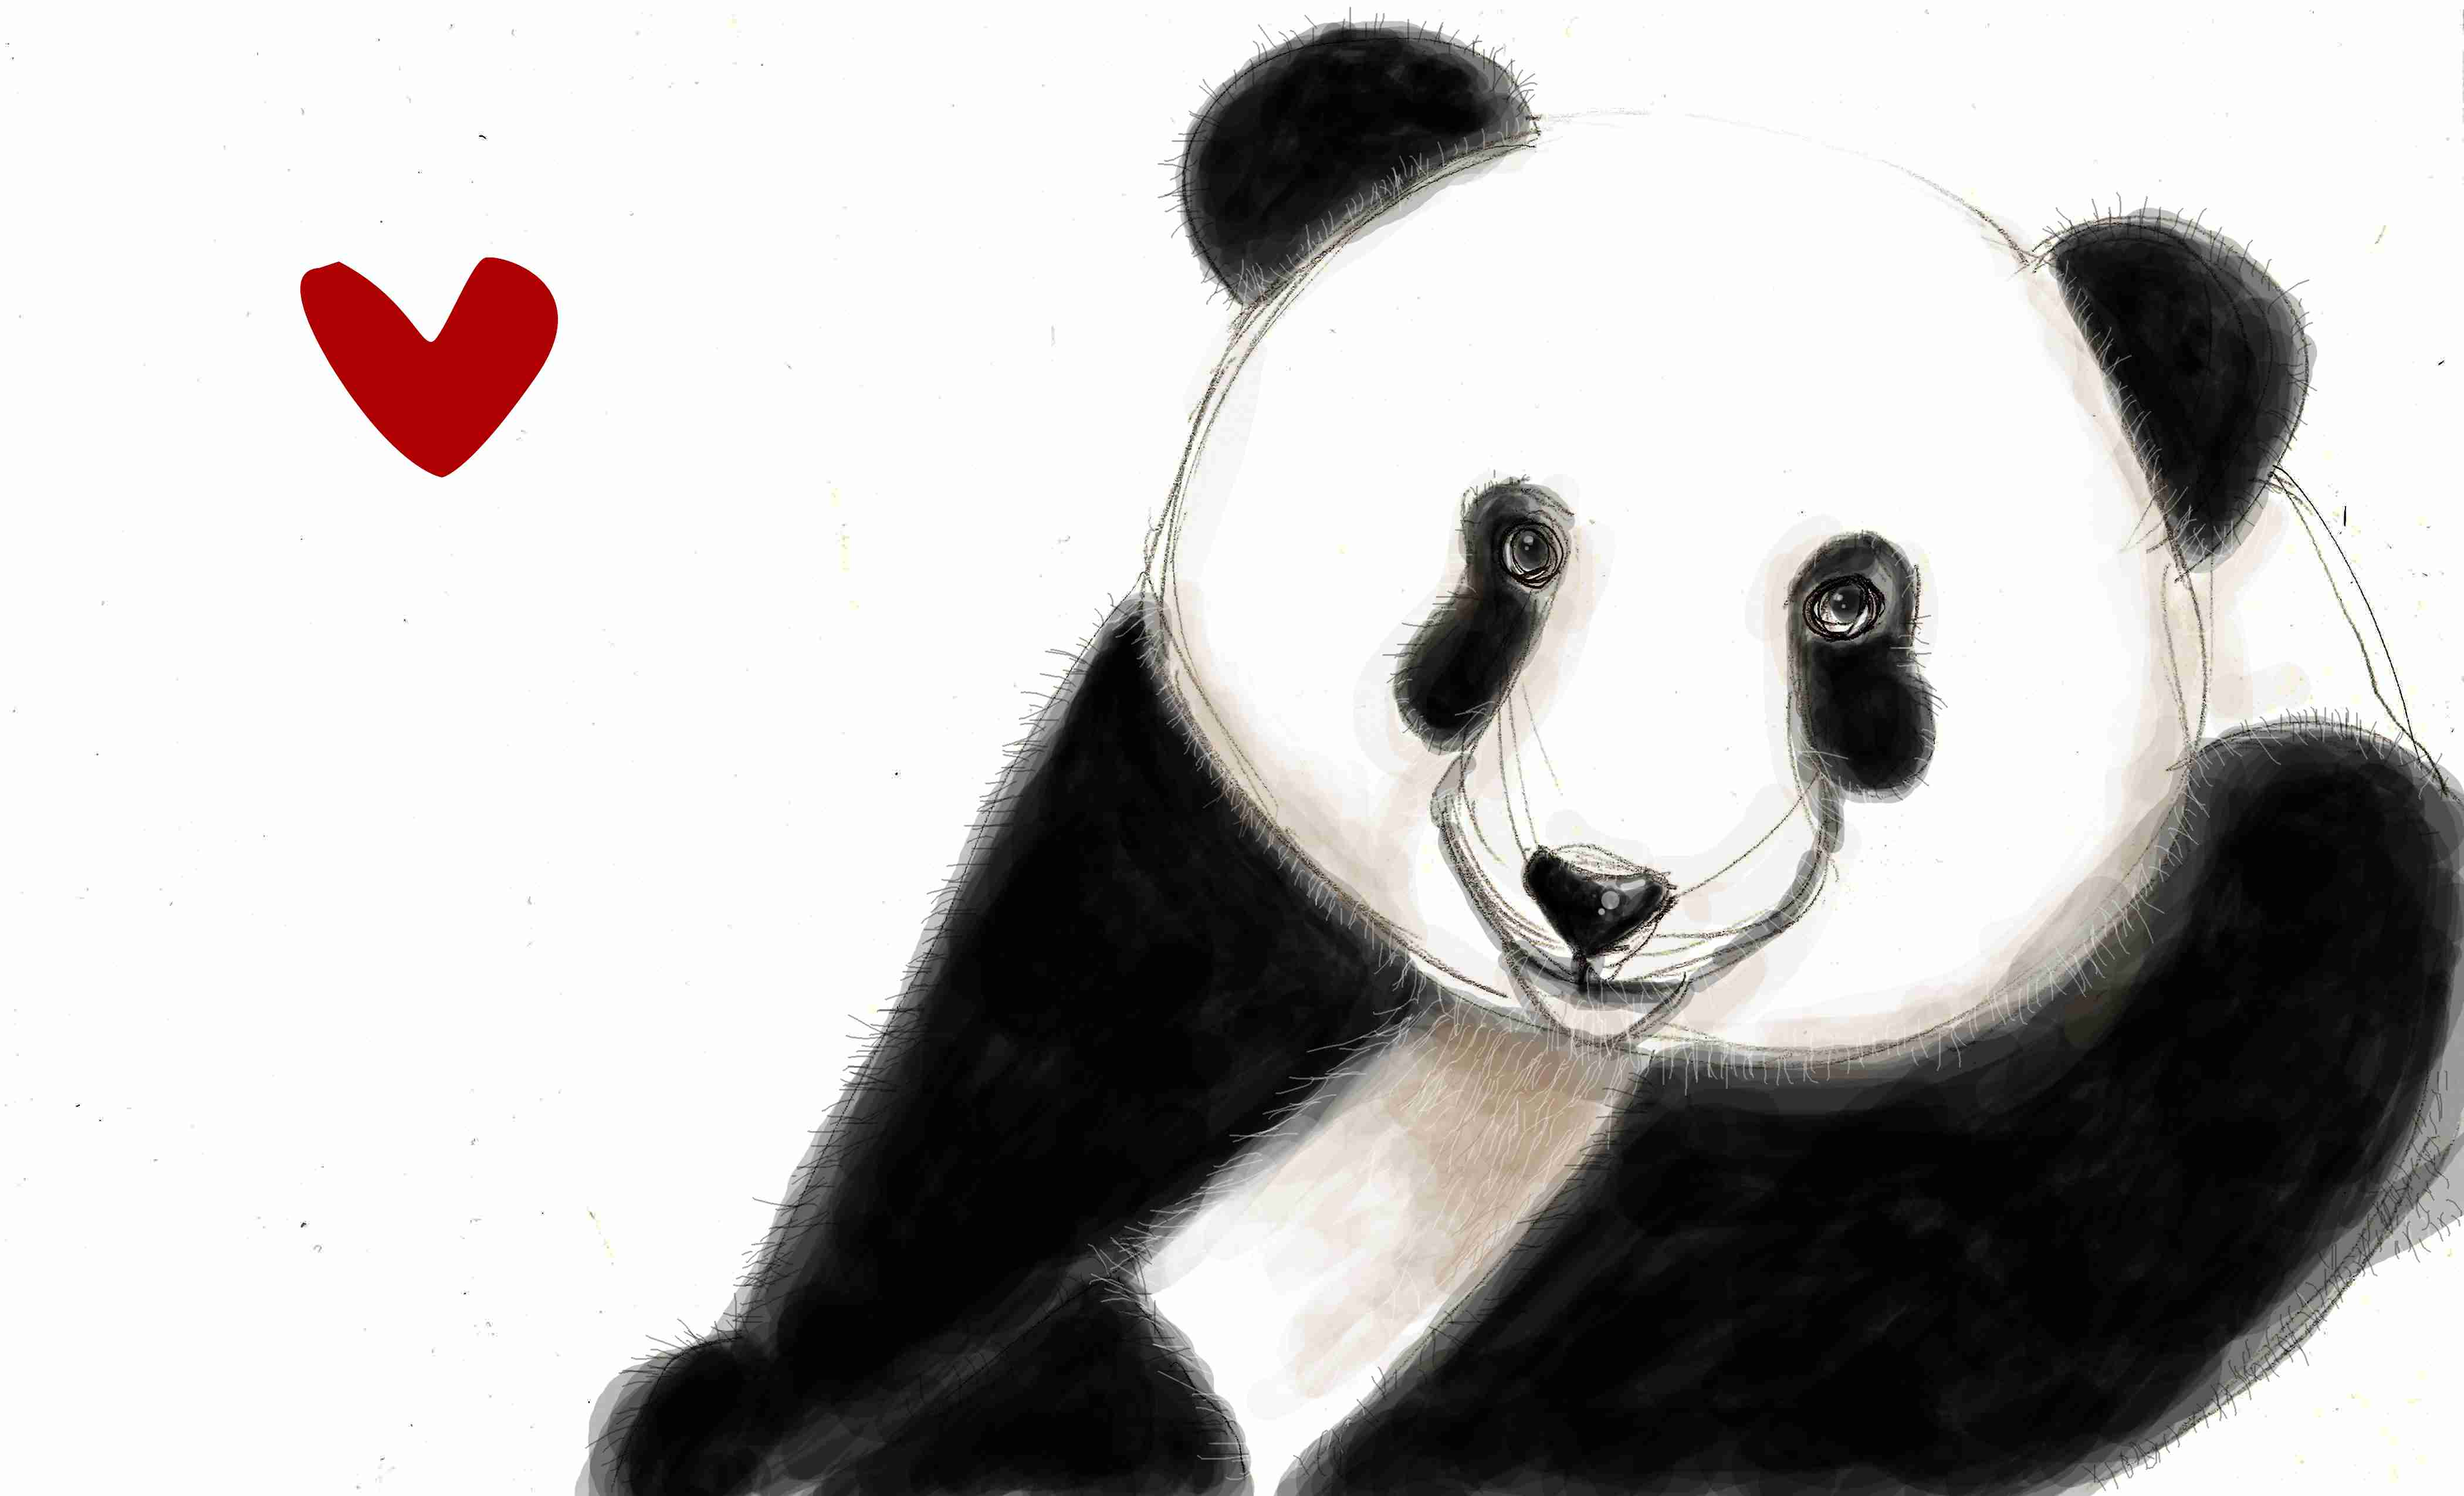panda: (602, 0, 2445, 1445)
